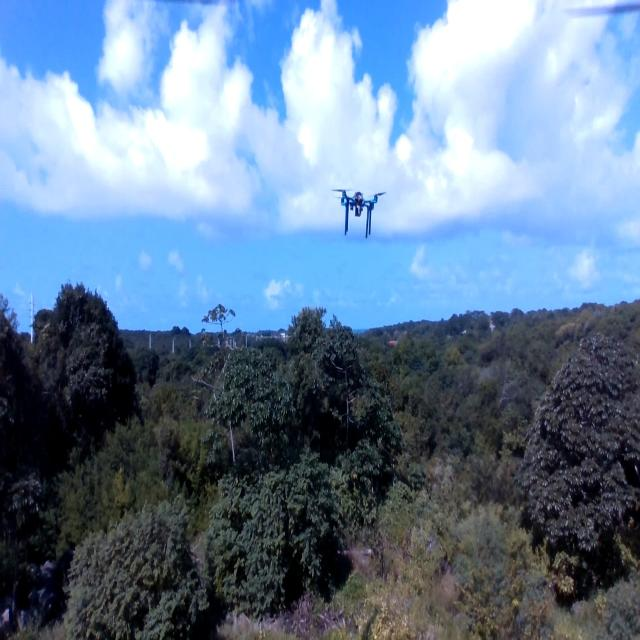-uav-: (328, 175, 394, 255)
